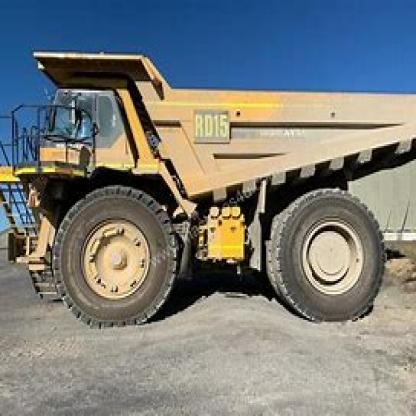dump_truck: (6, 44, 405, 333)
